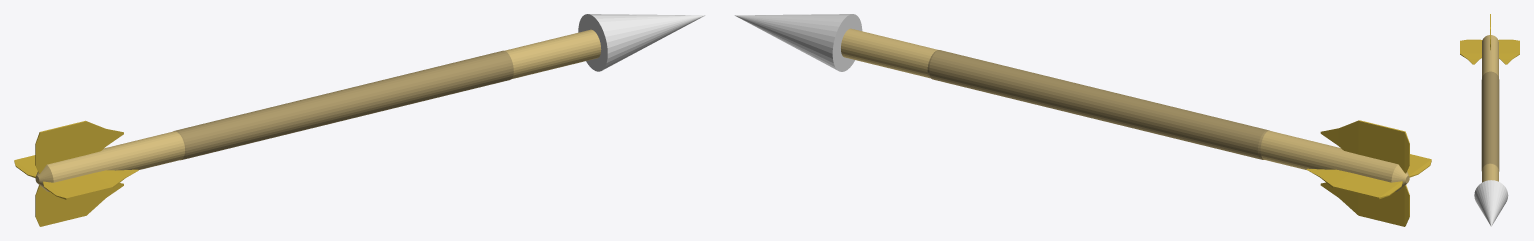
Rendered from arrow.fbx.
3 renders of one model, left to right at view 1: azimuth 30°, elevation 25°; view 2: azimuth 150°, elevation 25°; view 3: azimuth 270°, elevation 25°, orthographic. The views are drawn at different scales.
Parts seen in each view (by area): view 1: Cylinder.002, Cylinder, Cone, Cube, Cube.003, Cube.001, Cube.002; view 2: Cylinder.002, Cylinder, Cone, Cube, Cube.003, Cube.002, Cube.001; view 3: Cylinder.002, Cone, Cylinder, Cube.001, Cube.002.
Part boxes in pixels (x1,y1,x2,y2): Cylinder.002: (173,50,513,160); Cylinder: (35,29,601,191); Cone: (578,14,705,71); Cube: (35,120,123,173); Cube.003: (35,183,123,226); Cube.001: (43,169,138,199); Cube.002: (14,155,37,177); Cylinder.002: (927,50,1269,159); Cylinder: (841,28,1409,191); Cone: (734,14,862,71); Cube: (1320,120,1409,173); Cube.003: (1320,182,1409,226); Cube.002: (1306,168,1402,199); Cube.001: (1407,154,1431,177); Cylinder.002: (1481,71,1499,171); Cone: (1474,180,1508,226); Cylinder: (1482,35,1498,182); Cube.001: (1460,39,1482,64); Cube.002: (1498,39,1519,64).
Bounding box in the file's own units: 262 × 35.22 × 35.29.
